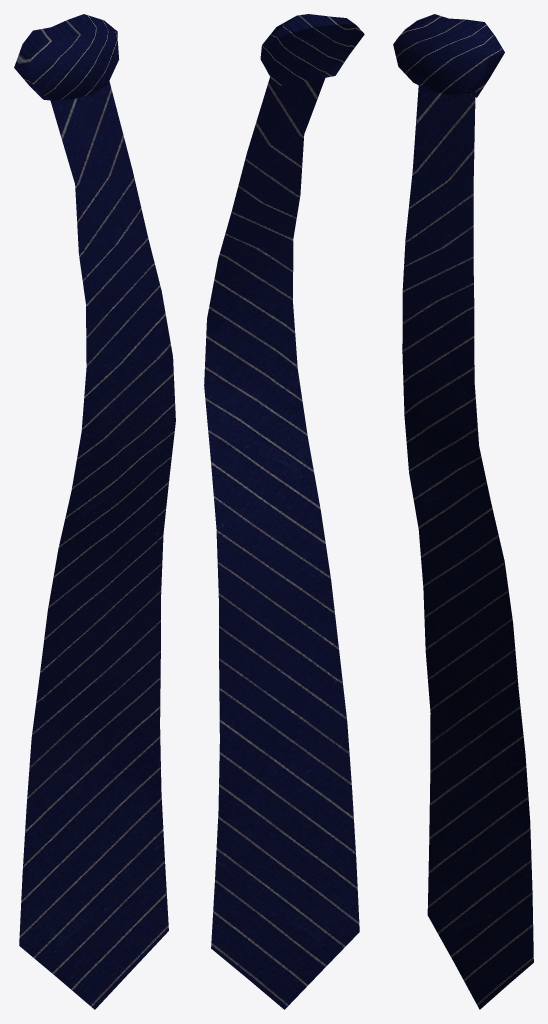
File: Pose-7_Tie-4.fbx
The picture shows the model from 3 angles, left to right: view 1: azimuth 30°, elevation 25°; view 2: azimuth 210°, elevation 25°; view 3: azimuth 330°, elevation 25°; orthographic projection.
Parts seen in each view (by area): view 1: Pose-7_Tie-4; view 2: Pose-7_Tie-4; view 3: Pose-7_Tie-4.
Part boxes in pixels (bbox=[...]): Pose-7_Tie-4: bbox=[14, 14, 175, 1009]; Pose-7_Tie-4: bbox=[204, 14, 364, 1009]; Pose-7_Tie-4: bbox=[393, 14, 533, 1009].
Size of the model in its own units: 7.64 by 49.59 by 4.84.
